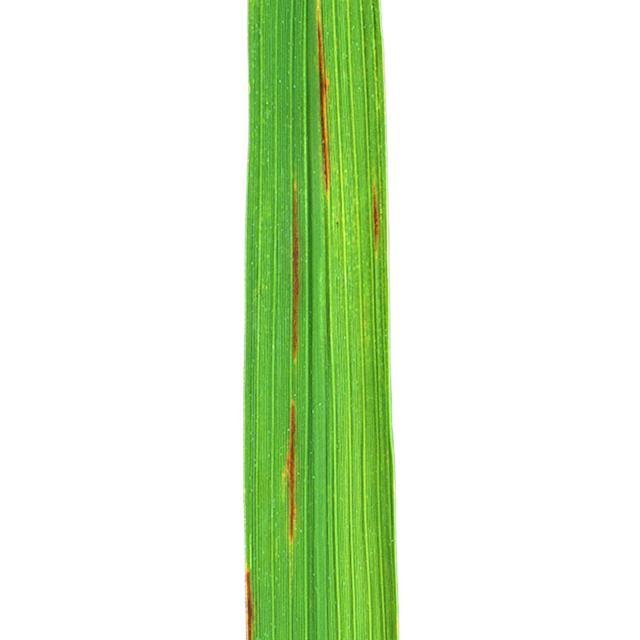Narrow brown: (204, 0, 422, 640)
